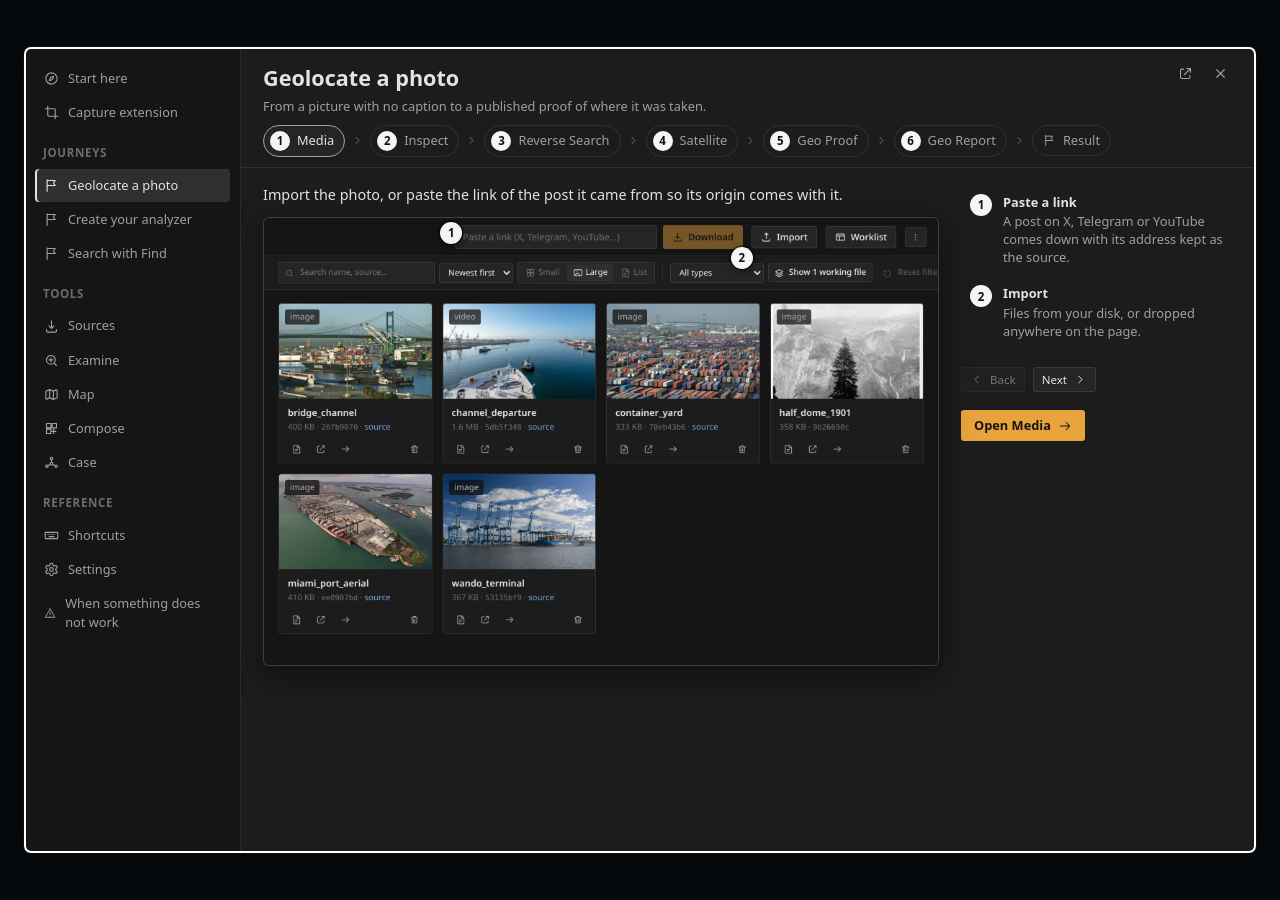
Scenario: a journey › walks its steps on the picture of each tool, with only that step’s frames
expect the text with class "lead" shows "Import the photo, or paste the link of the post it came from so its origin comes with it.": met, box [263,185,843,204]
Click the button "Next" at (1064, 380), box [1033,367,1096,392]
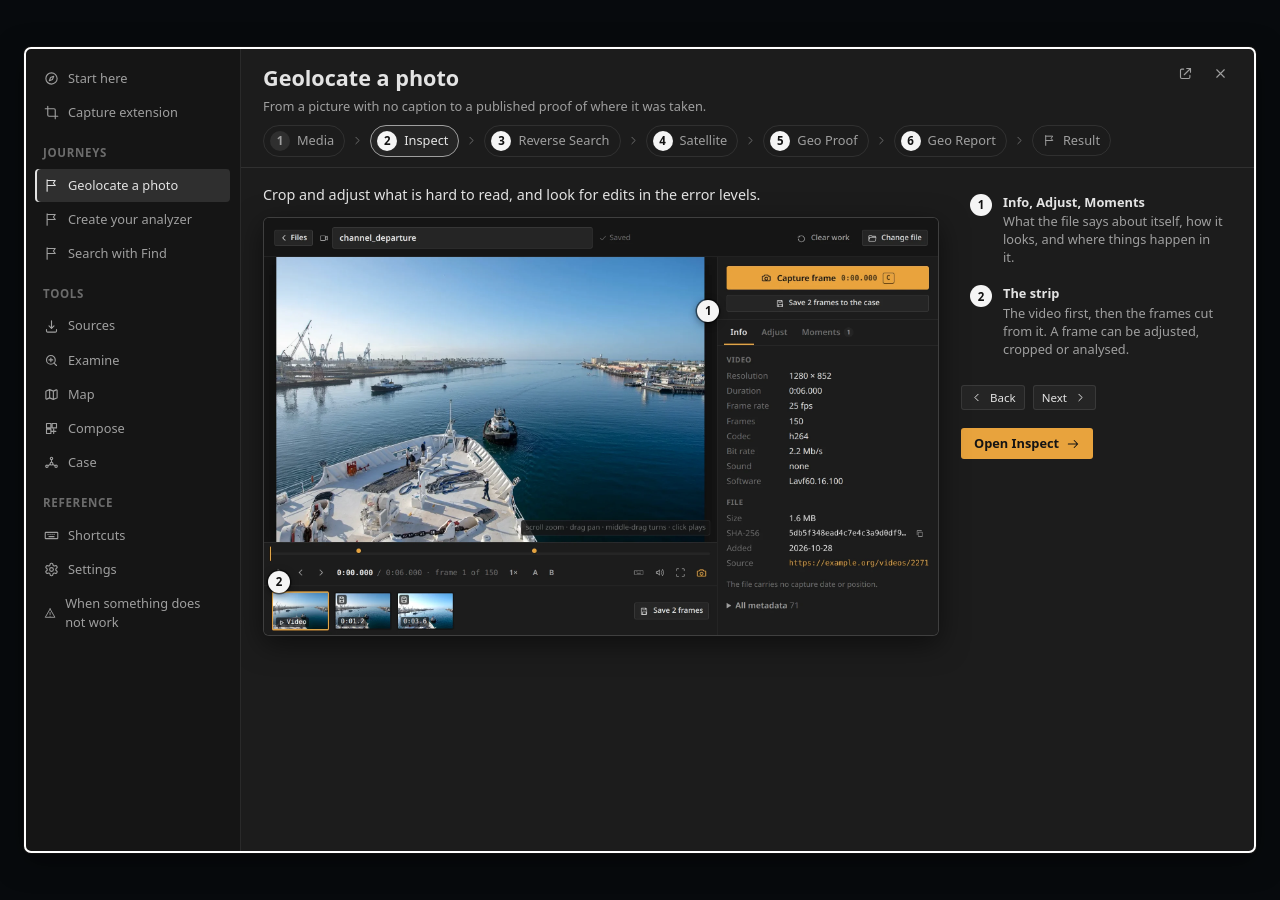
expect the text with class "lead" reads "Crop and adjust what is hard to read, and look for edits in the error levels.": met, box [263,185,760,204]
expect the button "Open Inspect" is shown: met, box [961,428,1093,459]
